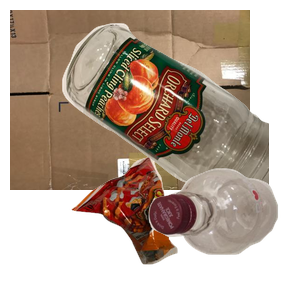cardboard: (10, 10, 250, 190)
glass: (60, 21, 300, 201)
plastic: (146, 166, 300, 300)
trash: (69, 153, 239, 300)
